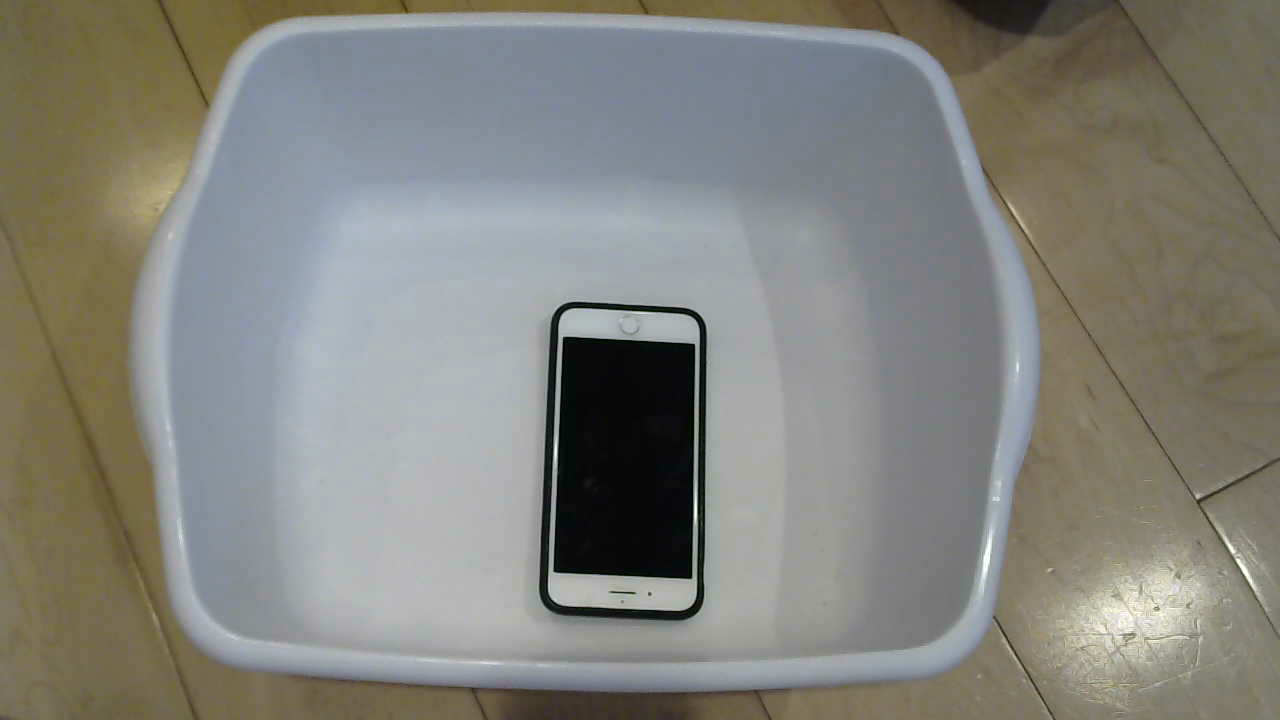phone: (527, 297, 734, 630)
